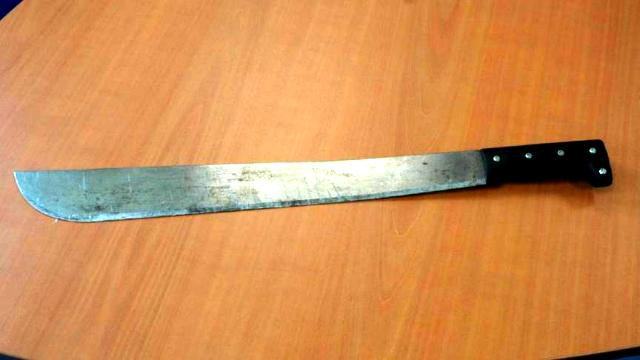long knife: (11, 130, 631, 253)
